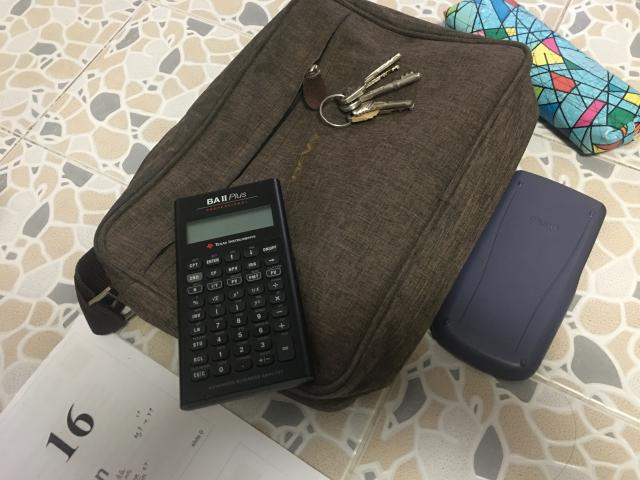Keys: (320, 54, 421, 128)
paper: (0, 316, 326, 480)
